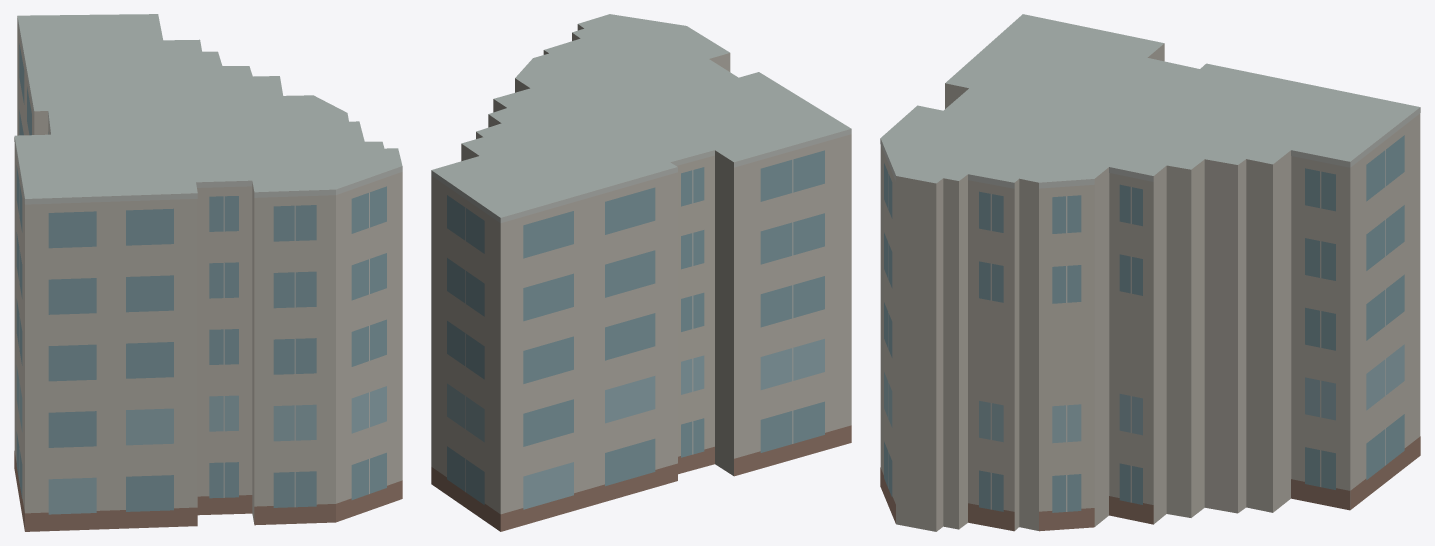
The model's file is survey-upis-32533124.glb.
3 views of the same model, side by side, from view 1: azimuth 30°, elevation 25°; view 2: azimuth 150°, elevation 25°; view 3: azimuth 270°, elevation 25° (orthographic). The views are drawn at different scales.
Parts seen in each view (by area): view 1: survey-upis-32533124.tmp; view 2: survey-upis-32533124.tmp; view 3: survey-upis-32533124.tmp.
Boxes of the visible parts, box(x1,y1,x2,y2) form: survey-upis-32533124.tmp: box(14, 14, 402, 531); survey-upis-32533124.tmp: box(431, 14, 851, 531); survey-upis-32533124.tmp: box(880, 14, 1420, 531).
Bounding box in the file's own units: 14.97 × 14.35 × 20.16.
